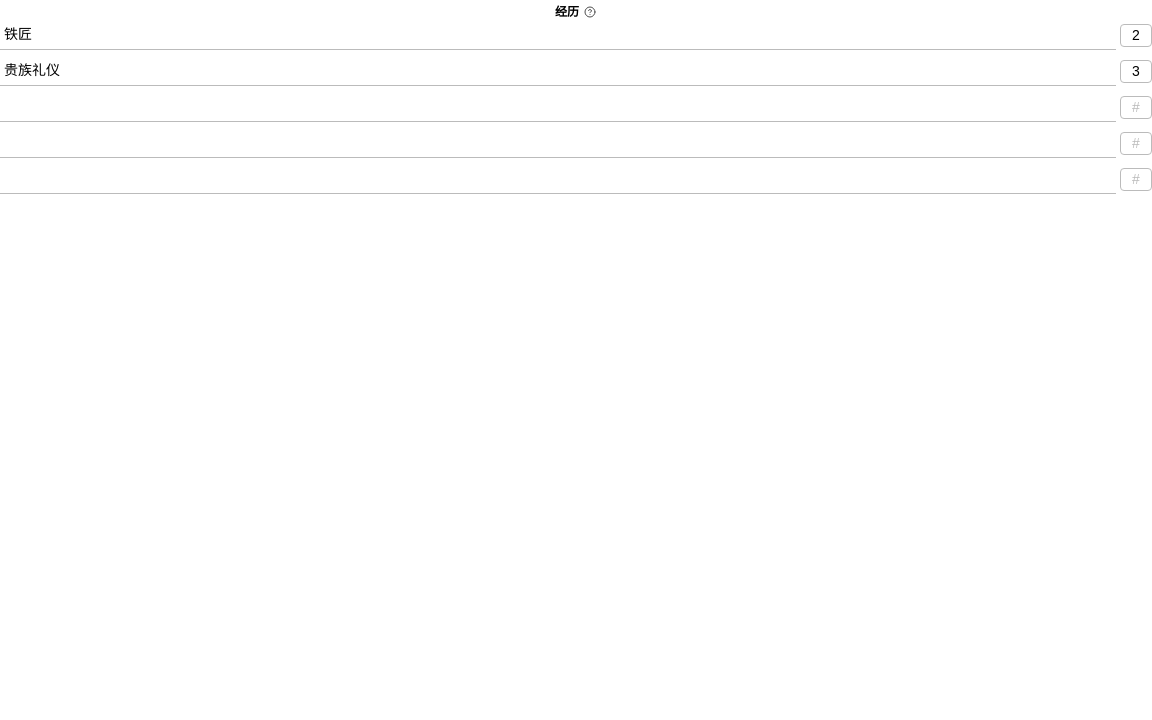
Scenario: final target editors › shows one title-level experience source panel with indexed target tabs
The width and height of the screenshot is (1152, 720).
Click the button named "查看经历来源": (590, 12) [583,5,597,19]
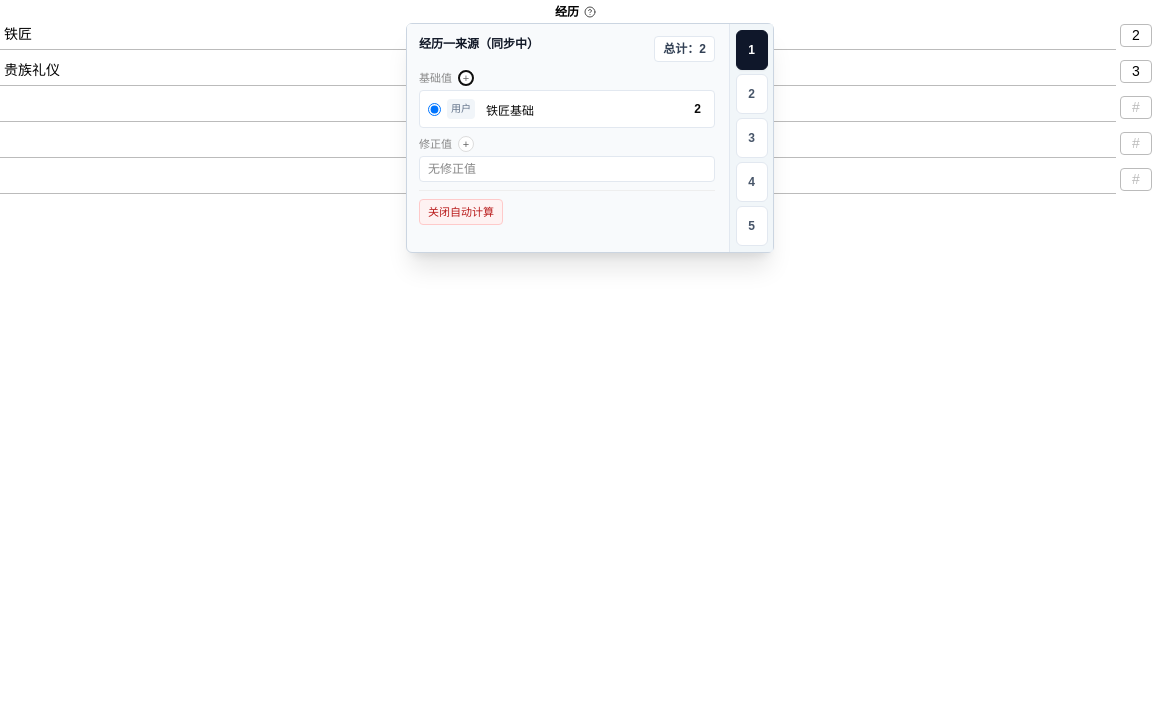
expect the dialog named "经历来源" is shown: met, box [406,23,774,253]
expect the element named "经历加值" is shown: met, box [729,24,773,252]
expect the field named "编辑铁匠基础名称" holds "铁匠基础": met, box [481,95,650,123]
Click the tab named "经历 2": (752, 94) [736,74,768,114]
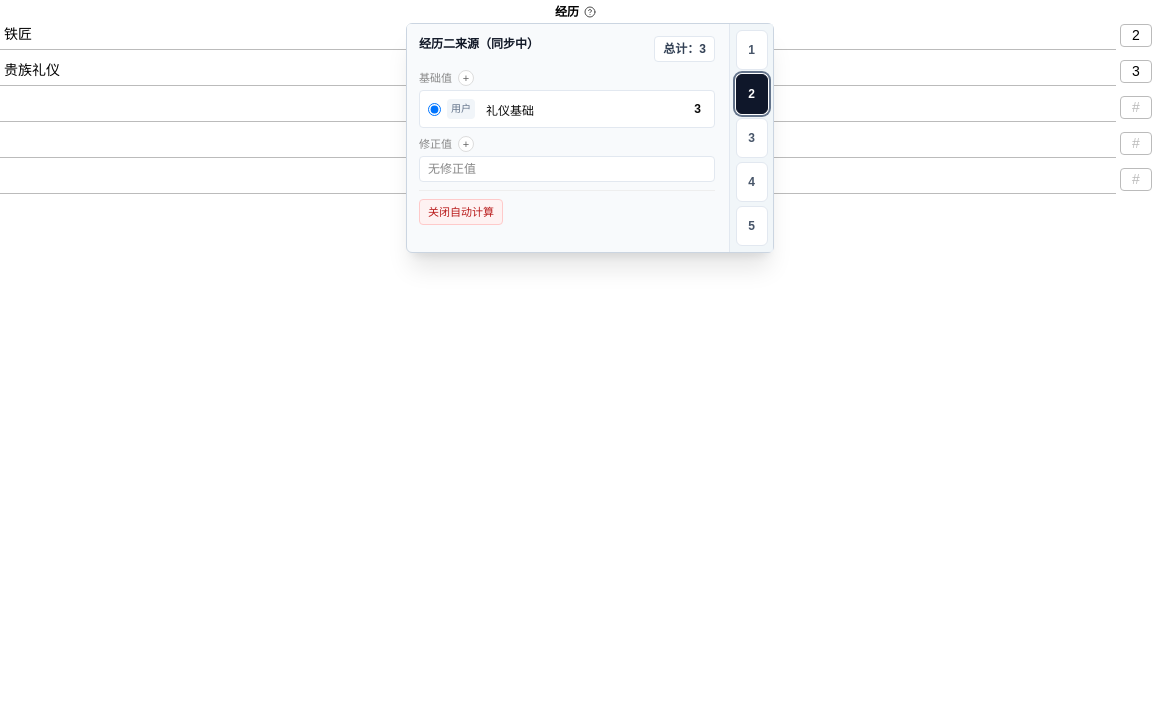
expect the field named "编辑礼仪基础名称" holds "礼仪基础": met, box [481,95,650,123]
expect the field labelled "编辑铁匠基础名称" is gone: met
